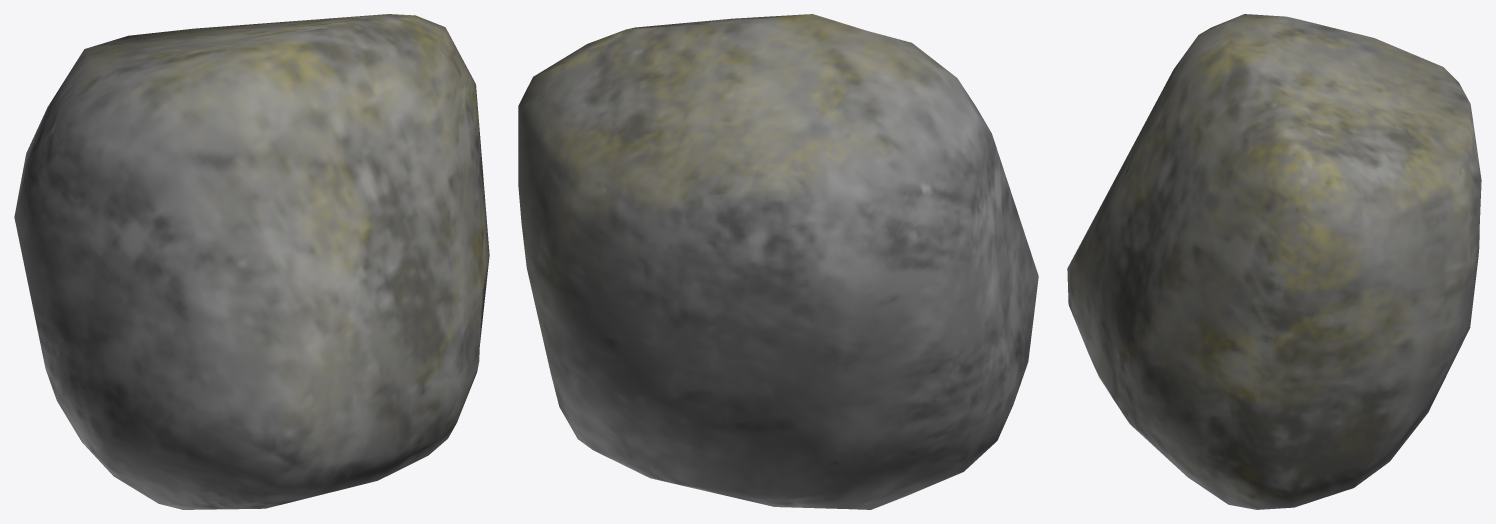
Rendered from rock5.fbx.
The picture shows the model from 3 angles, left to right: view 1: azimuth 30°, elevation 25°; view 2: azimuth 150°, elevation 25°; view 3: azimuth 270°, elevation 25°; orthographic projection. The views are drawn at different scales.
Parts seen in each view (by area): view 1: kamenmaly2_lp.001; view 2: kamenmaly2_lp.001; view 3: kamenmaly2_lp.001.
Boxes of the visible parts, x1=… form: kamenmaly2_lp.001: x1=14, y1=14, x2=489, y2=509; kamenmaly2_lp.001: x1=518, y1=14, x2=1038, y2=509; kamenmaly2_lp.001: x1=1067, y1=14, x2=1481, y2=509.
Bounding box in the file's own units: 37.57 × 36.86 × 34.32.
